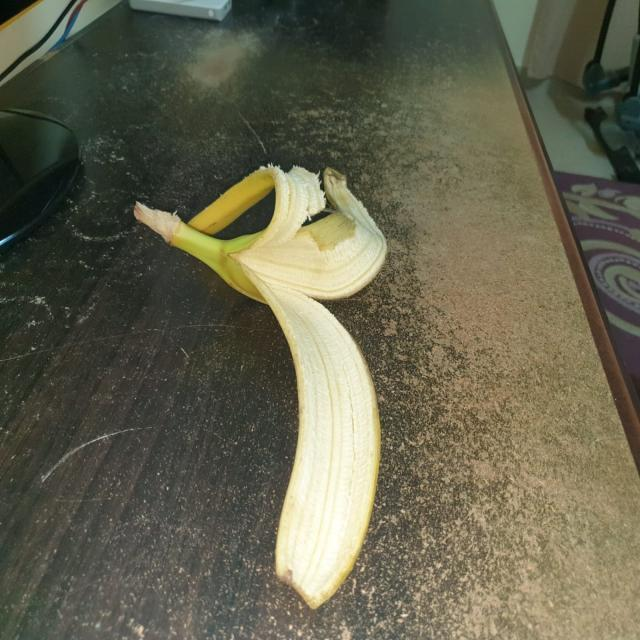banana-peel: (132, 162, 388, 609)
